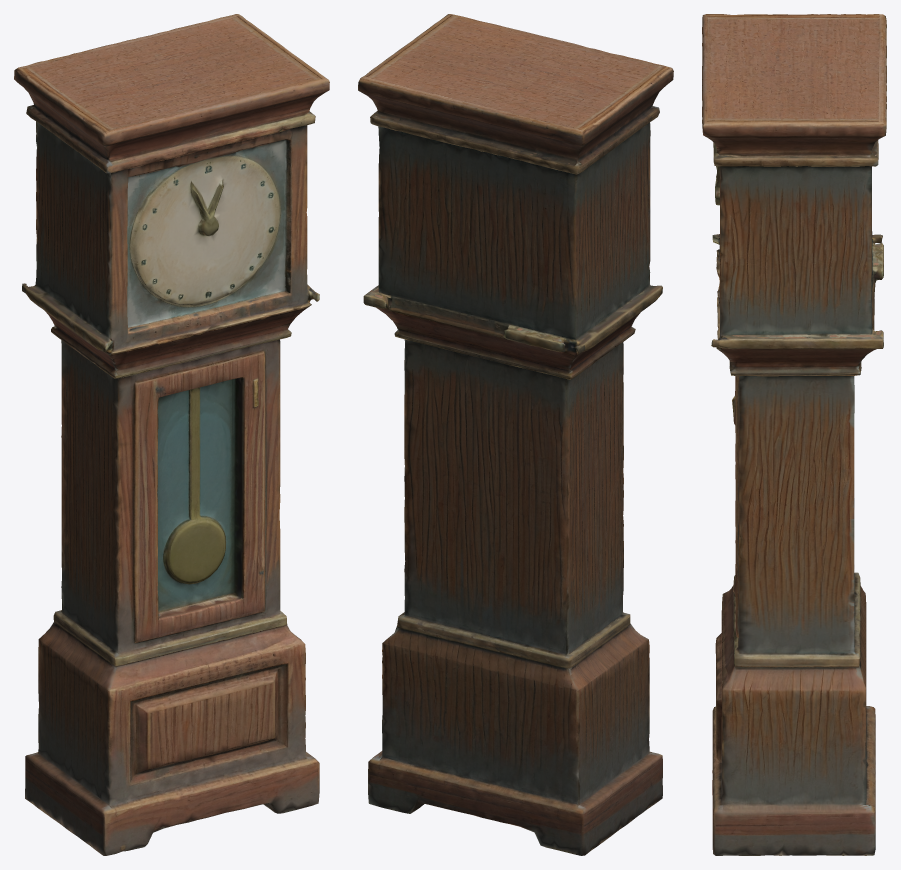
File: Furn_GrandfatherClock.fbx
The picture shows the model from 3 angles, left to right: view 1: azimuth 30°, elevation 25°; view 2: azimuth 150°, elevation 25°; view 3: azimuth 270°, elevation 25°; orthographic projection.
Parts seen in each view (by area): view 1: texture_mapping; view 2: texture_mapping; view 3: texture_mapping.
Boxes of the visible parts, x1,y1,x2,y2 form: texture_mapping: (14,14,329,855); texture_mapping: (358,14,673,855); texture_mapping: (702,14,886,855).
Size of the model in its own units: 0.3261 by 0.228 by 1.
1 material, 1 textured.
